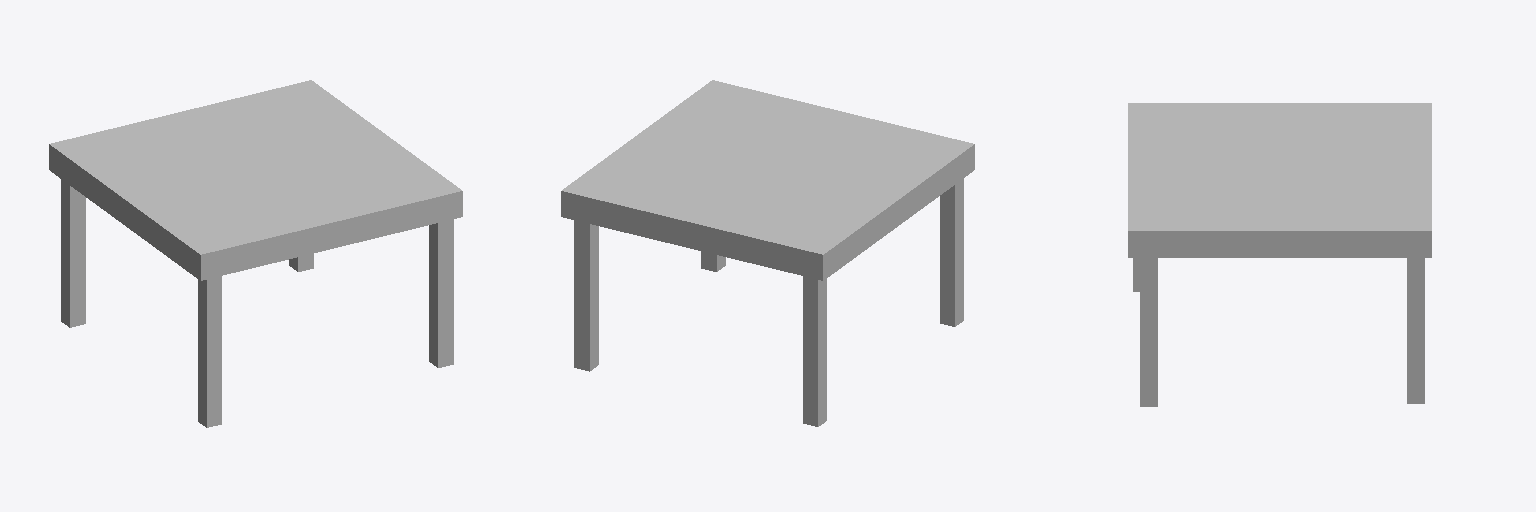
File: TableSqr.obj
3 views of the same model, side by side, from view 1: azimuth 30°, elevation 25°; view 2: azimuth 150°, elevation 25°; view 3: azimuth 270°, elevation 25° (orthographic).
Parts seen in each view (by area): view 1: TableSqr; view 2: TableSqr; view 3: TableSqr.
Part boxes in pixels (x1,y1,x2,y2): TableSqr: (49,80,462,427); TableSqr: (561,80,974,426); TableSqr: (1128,103,1431,406).
Bounding box in the file's own units: 3.43 × 2.21 × 3.43.